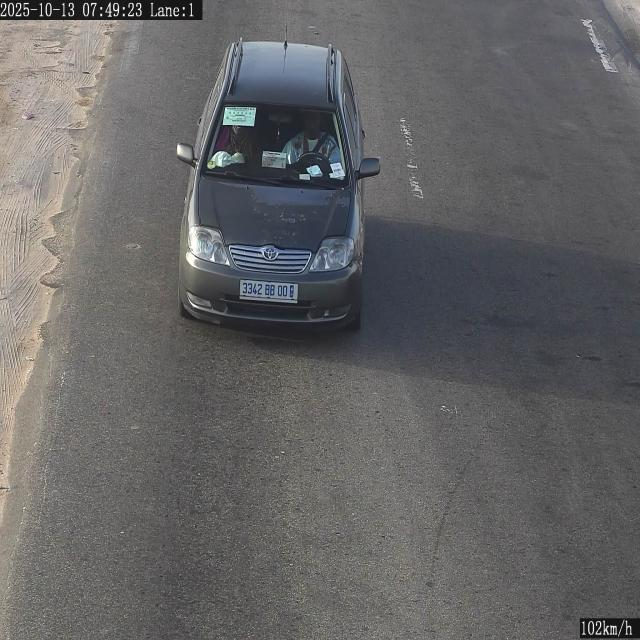BUS: (240, 280, 298, 302)
